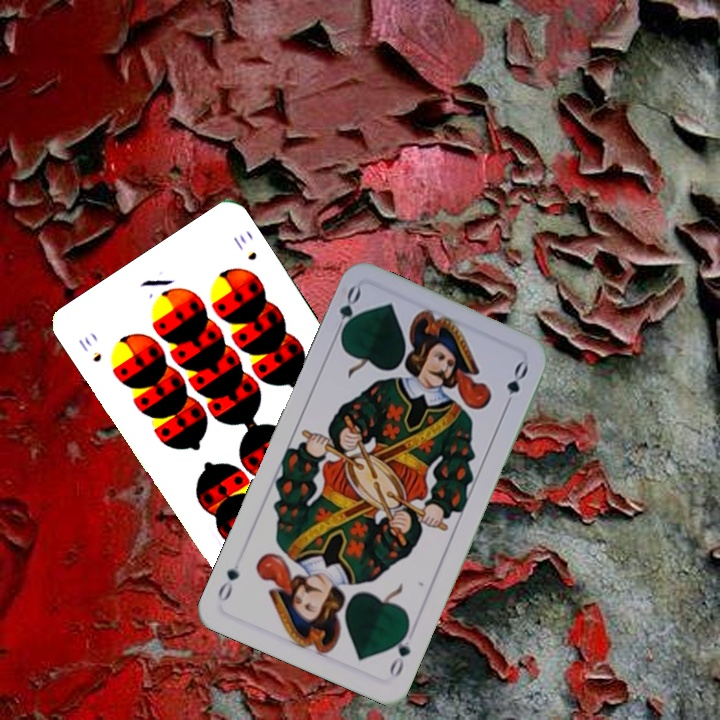GO: (330, 282, 364, 341), (385, 623, 414, 680)
S10: (74, 332, 105, 365)
